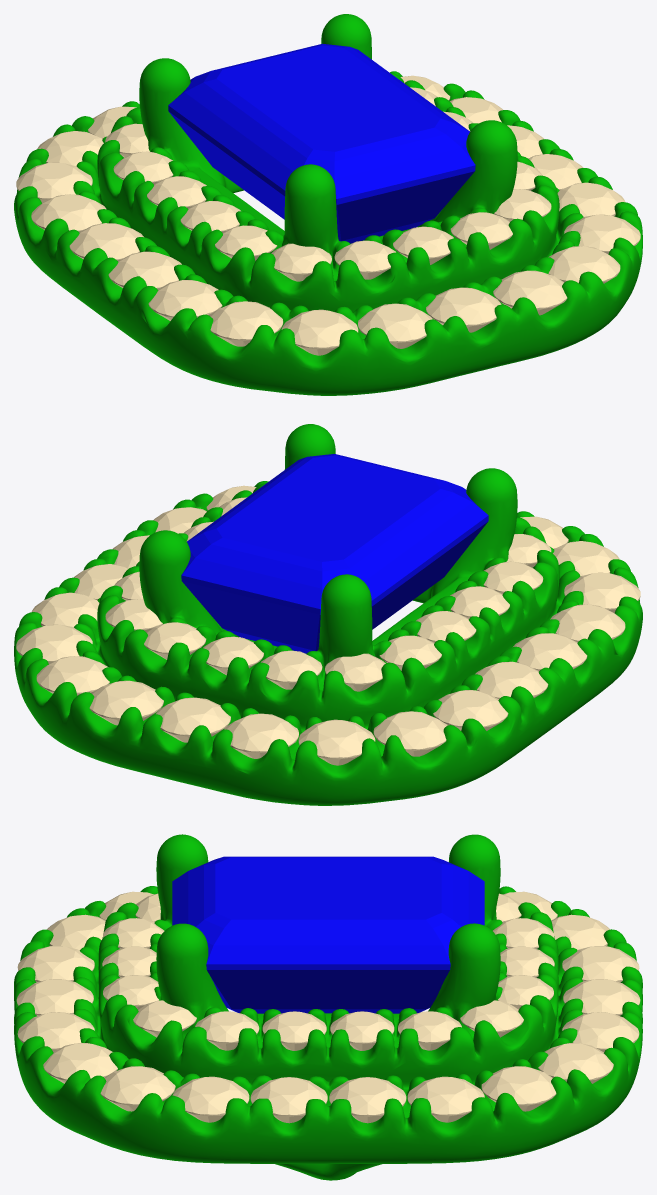
3 renders of one model, top to bottom at view 1: azimuth 30°, elevation 25°; view 2: azimuth 150°, elevation 25°; view 3: azimuth 270°, elevation 25°, orthographic.
Parts seen in each view (by area): view 1: Metal01, Diamond_Emerald, Diamond_Round.002, Diamond_Round.003, Diamond_Round, Diamond_Round.038, Diamond_Round.001, Diamond_Round.004, Diamond_Round.037, Diamond_Round.012, Diamond_Round.013, Diamond_Round.011 (+19 smaller); view 2: Metal01, Diamond_Emerald, Diamond_Round.011, Diamond_Round.010, Diamond_Round.008, Diamond_Round.009, Diamond_Round.034, Diamond_Round.012, Diamond_Round.033, Diamond_Round.004, Diamond_Round.005, Diamond_Round.013 (+19 smaller); view 3: Metal01, Diamond_Emerald, Diamond_Round.032, Diamond_Round.036, Diamond_Round.031, Diamond_Round.035, Diamond_Round.006, Diamond_Round.007, Diamond_Round.033, Diamond_Round.037, Diamond_Round.034, Diamond_Round (+22 smaller).
Boxes of the visible parts, x1,y1,x2,y2 form: Metal01: [14, 14, 642, 395]; Diamond_Emerald: [168, 43, 475, 243]; Diamond_Round.002: [281, 309, 358, 355]; Diamond_Round.003: [209, 301, 283, 346]; Diamond_Round: [426, 287, 501, 332]; Diamond_Round.038: [493, 270, 567, 315]; Diamond_Round.001: [358, 303, 432, 348]; Diamond_Round.004: [148, 280, 222, 320]; Diamond_Round.037: [548, 246, 620, 283]; Diamond_Round.012: [31, 194, 106, 232]; Diamond_Round.013: [69, 223, 143, 260]; Diamond_Round.011: [16, 162, 92, 202]; Metal01: [14, 424, 642, 805]; Diamond_Emerald: [181, 454, 488, 653]; Diamond_Round.011: [373, 711, 447, 756]; Diamond_Round.010: [298, 719, 375, 765]; Diamond_Round.008: [156, 697, 230, 742]; Diamond_Round.009: [224, 713, 298, 758]; Diamond_Round.034: [89, 680, 163, 725]; Diamond_Round.012: [433, 690, 508, 730]; Diamond_Round.033: [36, 656, 109, 695]; Diamond_Round.004: [550, 604, 625, 642]; Diamond_Round.005: [513, 633, 587, 670]; Diamond_Round.013: [475, 661, 548, 699]; Metal01: [14, 834, 642, 1180]; Diamond_Emerald: [172, 856, 484, 1013]; Diamond_Round.032: [481, 1066, 556, 1111]; Diamond_Round.036: [100, 1066, 175, 1111]; Diamond_Round.031: [407, 1076, 484, 1122]; Diamond_Round.035: [172, 1076, 249, 1122]; Diamond_Round.006: [329, 1077, 406, 1123]; Diamond_Round.007: [250, 1077, 327, 1123]; Diamond_Round.033: [538, 1043, 613, 1083]; Diamond_Round.037: [43, 1043, 117, 1083]; Diamond_Round.034: [562, 1012, 639, 1052]; Diamond_Round: [16, 979, 93, 1015].
Size of the model in its own units: 10.69 by 6.28 by 12.24.
